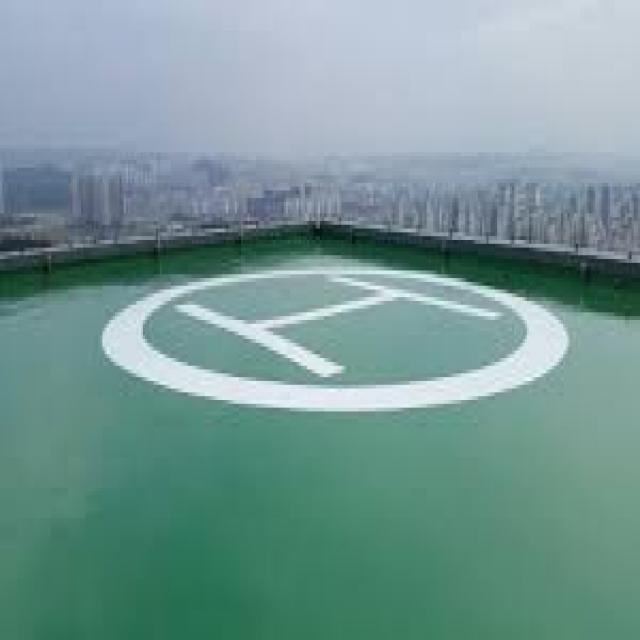helipad: (89, 255, 572, 415)
